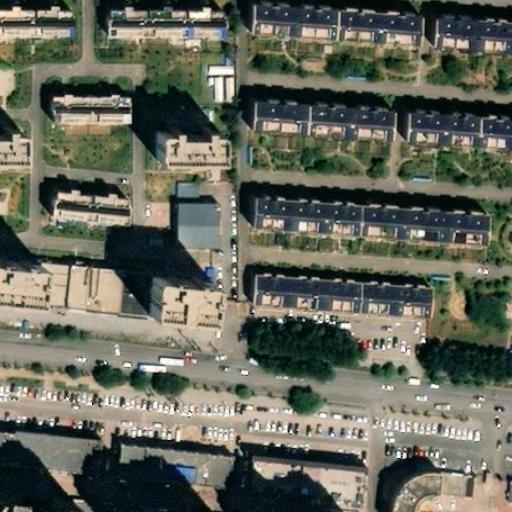building: (254, 209, 487, 254), (260, 13, 423, 62), (247, 282, 436, 324), (44, 289, 164, 344), (250, 110, 390, 151), (3, 454, 109, 498), (130, 471, 241, 503), (412, 122, 512, 157), (108, 14, 224, 44), (258, 484, 371, 512), (435, 27, 512, 61), (163, 139, 225, 181), (159, 304, 216, 349), (51, 93, 131, 125), (0, 4, 68, 38), (172, 199, 219, 247), (57, 203, 136, 231), (393, 485, 445, 512), (445, 485, 472, 509)
